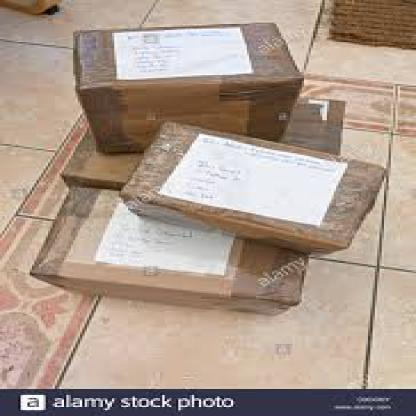paquete: (25, 179, 318, 324), (123, 108, 391, 254), (61, 21, 308, 167), (57, 69, 348, 186)
